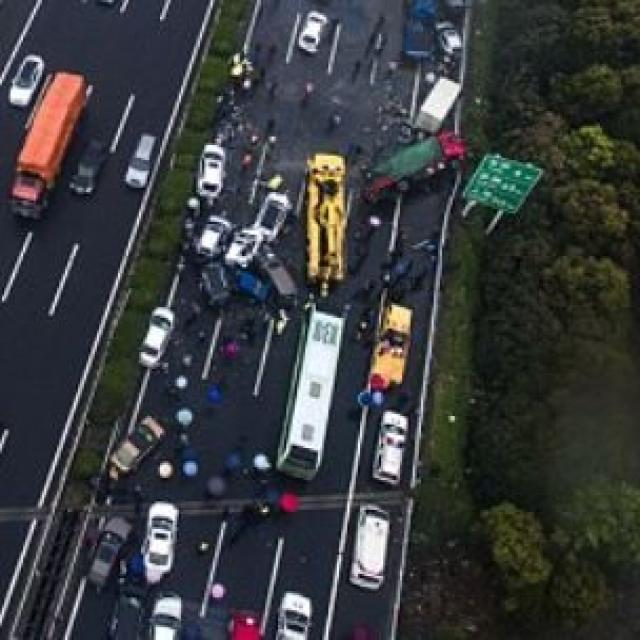traffic_incident: (185, 192, 301, 322), (356, 126, 472, 205)
